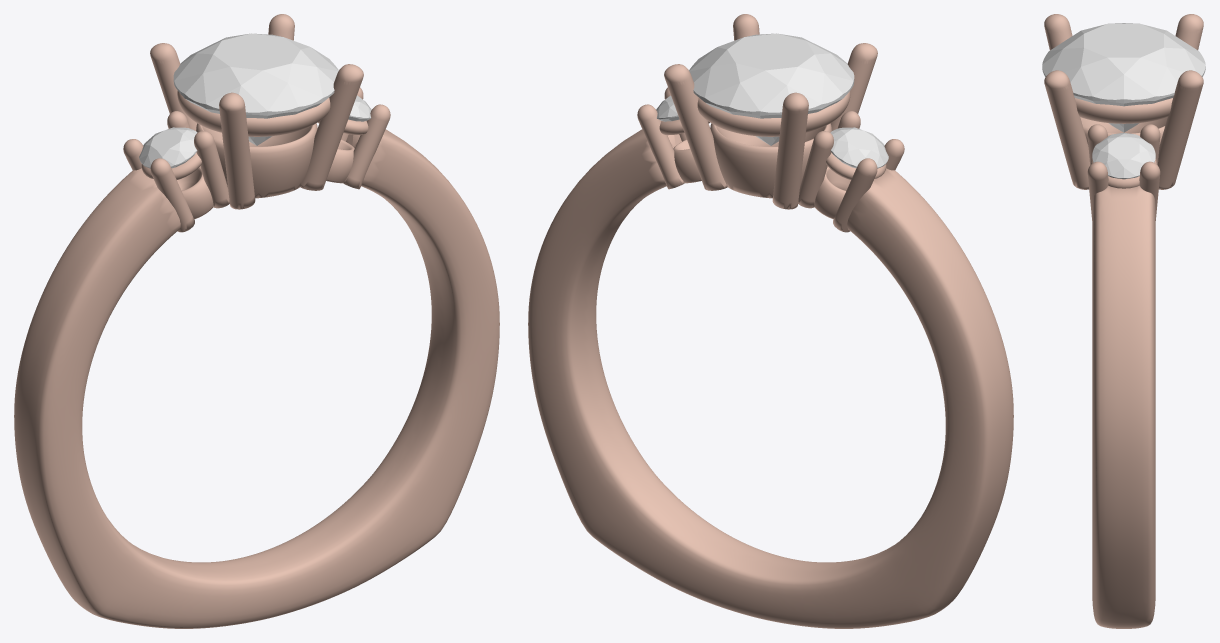
Rendered from diamond-round-rosegold-4prong-europeanshank-2stone.glb.
The picture shows the model from 3 angles, left to right: view 1: azimuth 30°, elevation 25°; view 2: azimuth 150°, elevation 25°; view 3: azimuth 270°, elevation 25°; orthographic projection. The views are drawn at different scales.
Visible parts, largest first — view 1: metal, stone, side.001; view 2: metal, stone, side.001; view 3: metal, stone, side.
Part boxes in pixels (box(x1,y1,x2,y2)): metal: box(14, 14, 499, 628); stone: box(173, 33, 338, 145); side.001: box(139, 127, 197, 168); metal: box(528, 14, 1013, 628); stone: box(689, 33, 854, 145); side.001: box(830, 127, 888, 168); metal: box(1044, 14, 1203, 628); stone: box(1042, 23, 1205, 132); side: box(1092, 133, 1155, 179).
Size of the model in its own units: 20.71 by 23.81 by 6.44.
